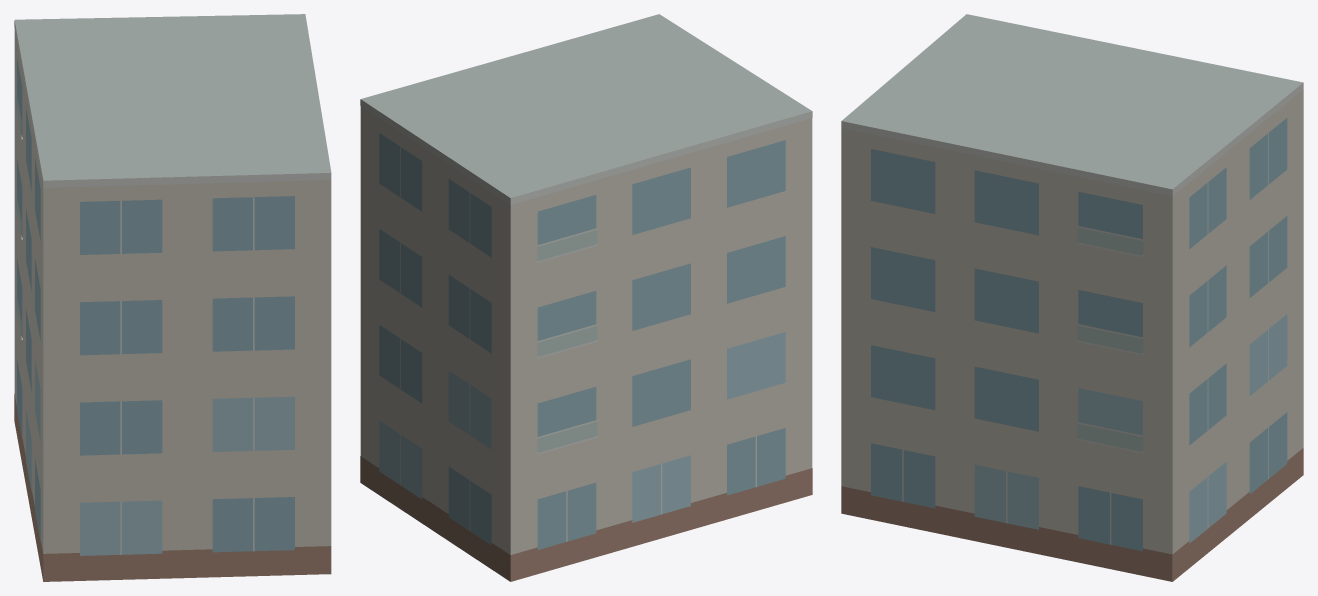
The model's file is survey-upis-32728750.glb.
The picture shows the model from 3 angles, left to right: view 1: azimuth 30°, elevation 25°; view 2: azimuth 150°, elevation 25°; view 3: azimuth 270°, elevation 25°; orthographic projection. The views are drawn at different scales.
Visible parts, largest first — view 1: survey-upis-32728750.tmp; view 2: survey-upis-32728750.tmp; view 3: survey-upis-32728750.tmp.
Boxes of the visible parts, bbox=[...] form: survey-upis-32728750.tmp: bbox=[14, 14, 331, 581]; survey-upis-32728750.tmp: bbox=[360, 14, 812, 581]; survey-upis-32728750.tmp: bbox=[841, 14, 1303, 581].
Size of the model in its own units: 13.23 by 13.8 by 14.74.
